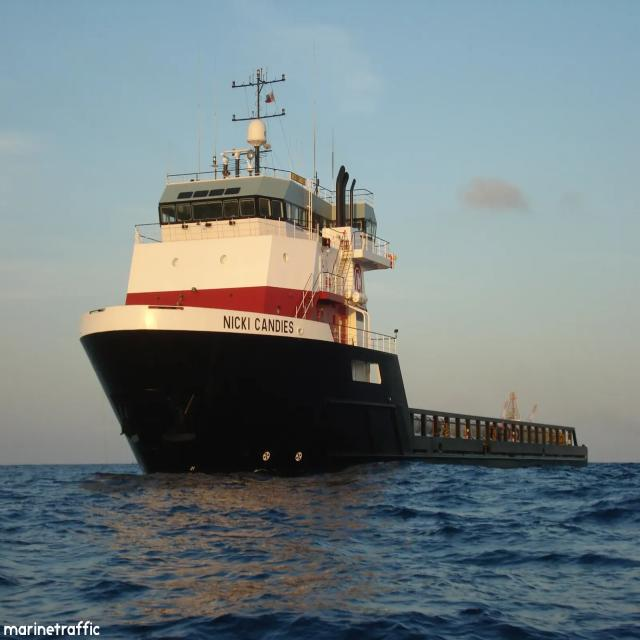Offshore: (79, 118, 587, 473)
